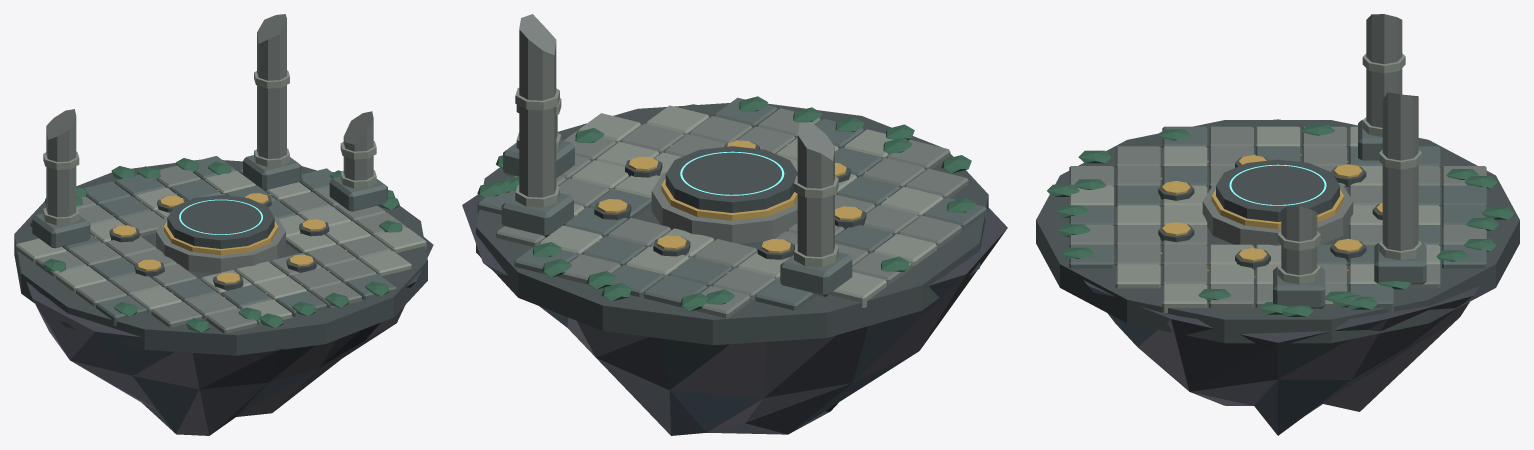
Rendered from sanctuary.glb.
The picture shows the model from 3 angles, left to right: view 1: azimuth 30°, elevation 25°; view 2: azimuth 150°, elevation 25°; view 3: azimuth 270°, elevation 25°; orthographic projection. The views are drawn at different scales.
Visible parts, largest first — view 1: Floating_Basalt, Sanctuary_Foundation, Dais_Crown, Pillar_Broken_1, Pillar_Broken_0, Stone_Dais, Pillar_Broken_2, Pillar_Foot_0, Pillar_Foot_1, Pillar_Foot_2, Dais_Brass, Paving_01_01 (+47 smaller); view 2: Floating_Basalt, Sanctuary_Foundation, Dais_Crown, Pillar_Broken_1, Pillar_Broken_0, Stone_Dais, Pillar_Foot_0, Pillar_Foot_1, Dais_Brass, Paving_00_03, Paving_03_08, Paving_01_01 (+48 smaller); view 3: Floating_Basalt, Sanctuary_Foundation, Dais_Crown, Pillar_Broken_1, Pillar_Broken_0, Stone_Dais, Pillar_Broken_2, Pillar_Foot_1, Pillar_Foot_2, Paving_07_01, Paving_08_02, Paving_00_04 (+46 smaller).
Boxes of the visible parts, x1,y1,x2,y2 form: Floating_Basalt: (26,172,433,435); Sanctuary_Foundation: (14,159,427,355); Dais_Crown: (167,195,274,248); Pillar_Broken_1: (257,14,286,158); Pillar_Broken_0: (46,109,76,217); Stone_Dais: (156,216,285,273); Pillar_Broken_2: (343,111,373,180); Pillar_Foot_0: (32,213,90,248); Pillar_Foot_1: (243,155,301,191); Pillar_Foot_2: (329,176,387,211); Dais_Brass: (164,221,278,255); Paving_01_01: (151,301,202,327); Floating_Basalt: (462,104,1007,435); Sanctuary_Foundation: (476,103,988,345); Dais_Crown: (665,146,797,212); Pillar_Broken_1: (519,14,556,197); Pillar_Broken_0: (797,122,834,257); Stone_Dais: (651,172,797,243); Pillar_Foot_0: (780,252,852,296); Pillar_Foot_1: (501,192,573,237); Dais_Brass: (661,179,797,220); Paving_00_03: (898,215,961,247); Paving_03_08: (644,275,707,307); Paving_01_01: (905,168,968,199); Floating_Basalt: (1083,119,1479,435); Sanctuary_Foundation: (1036,120,1519,343); Dais_Crown: (1216,159,1339,221); Pillar_Broken_1: (1382,92,1418,250); Pillar_Broken_0: (1366,14,1402,127); Stone_Dais: (1202,184,1353,248); Pillar_Broken_2: (1281,206,1317,275); Pillar_Foot_1: (1374,242,1426,284); Pillar_Foot_2: (1273,266,1325,308); Paving_07_01: (1115,264,1160,288); Paving_08_02: (1162,284,1207,313); Paving_00_04: (1255,126,1300,147).
Bounding box in the file's own units: 3.03 × 2.54 × 2.96.
